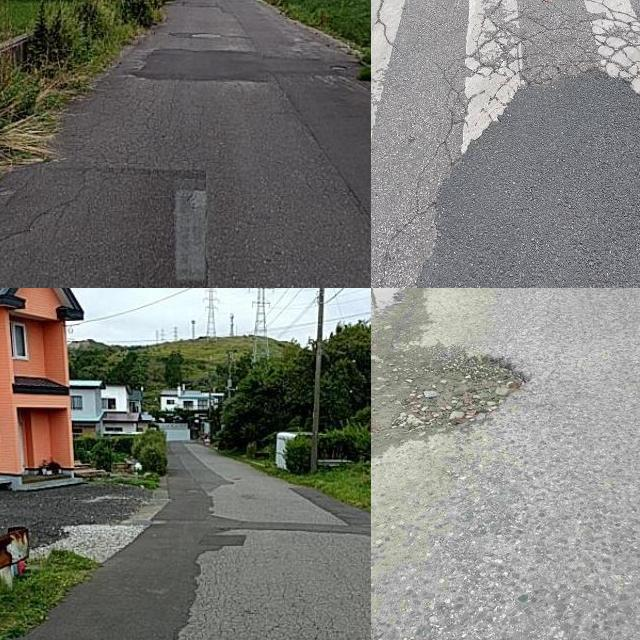Pinggir: (371, 341, 532, 488)
Sambungan: (418, 71, 640, 288), (18, 491, 230, 640), (0, 166, 205, 288), (134, 51, 336, 83)
